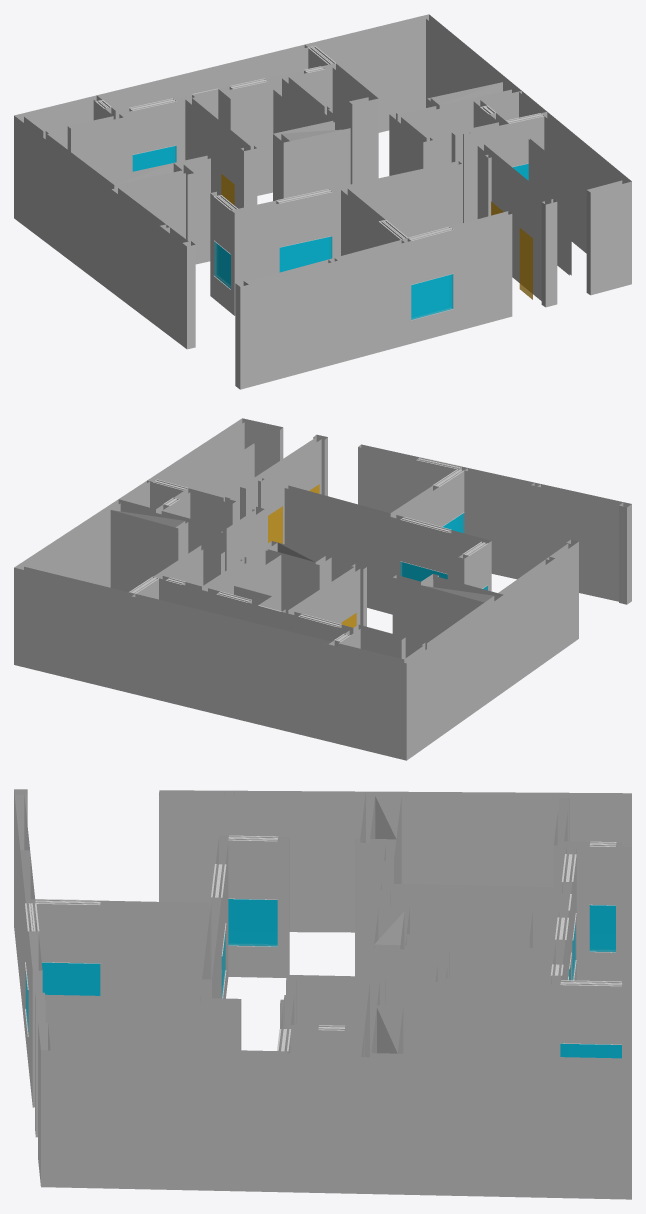
Rendered from fc77a18f-2317-4122-b9a6-3657869465fd_no_roof.glb.
3 views of the same model, one above another, from view 1: azimuth 30°, elevation 25°; view 2: azimuth 150°, elevation 25°; view 3: azimuth 270°, elevation 25° (orthographic). The views are drawn at different scales.
Parts seen in each view (by area): view 1: walls, windows, doors; view 2: walls, windows, doors; view 3: walls, windows.
Boxes of the visible parts, x1,y1,x2,y2 form: walls: [14, 14, 631, 389]; windows: [132, 145, 528, 319]; doors: [221, 174, 532, 299]; walls: [14, 418, 631, 760]; windows: [400, 513, 487, 590]; doors: [268, 484, 356, 627]; walls: [14, 789, 631, 1199]; windows: [25, 899, 621, 1058].
Bounding box in the file's own units: 14.99 × 3.5 × 14.32.
